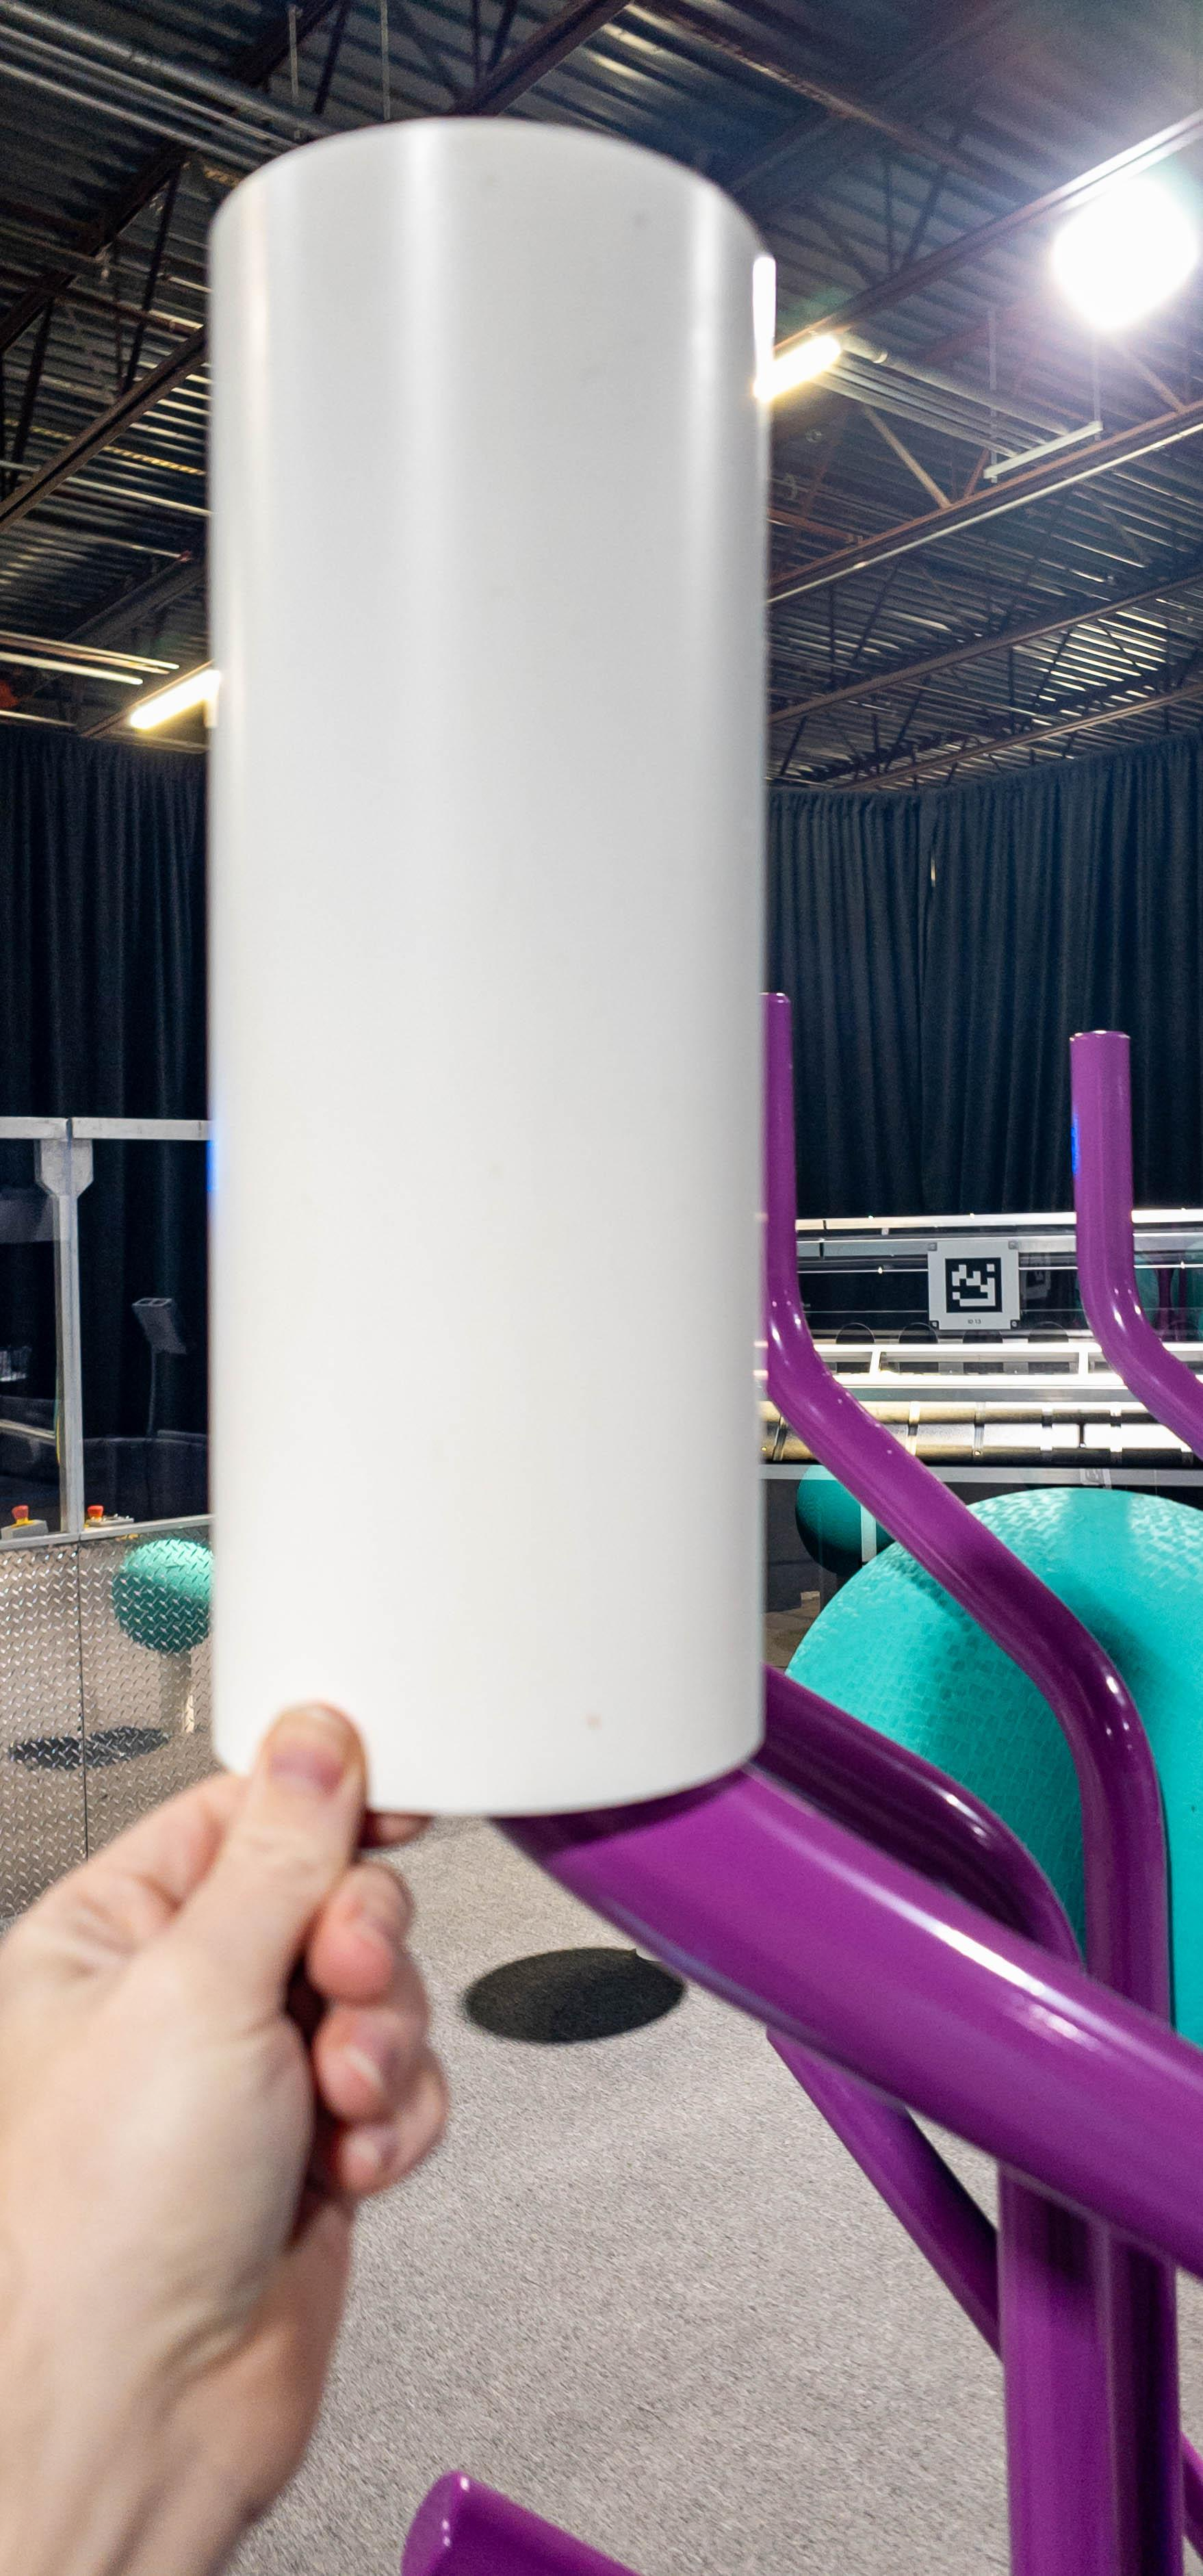ALGAE: (781, 1488, 1203, 2063)
CORAL: (215, 117, 774, 1817)
